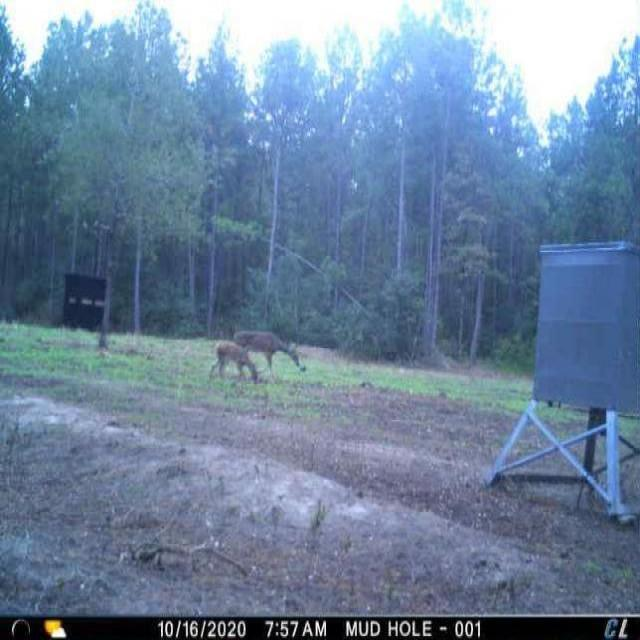deer: (238, 323, 304, 382), (212, 336, 258, 387)
